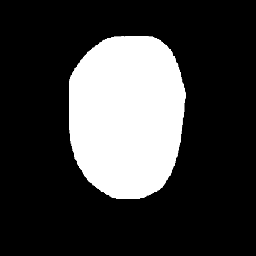mass: (73, 38, 168, 193)
